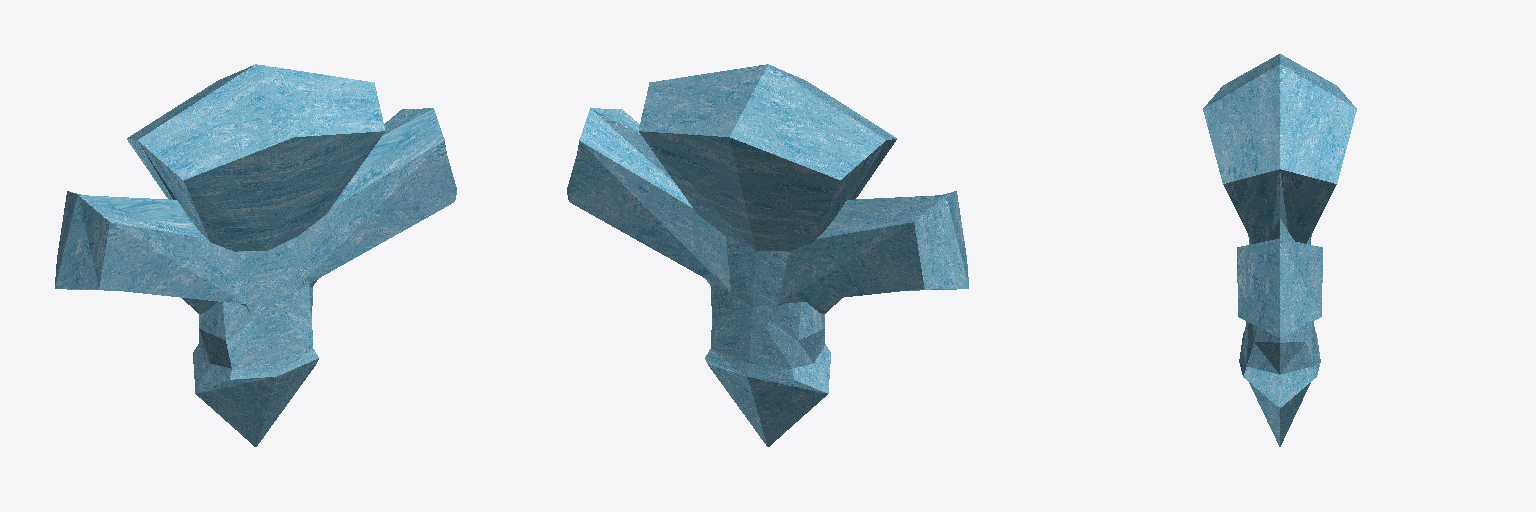
3 renders of one model, left to right at view 1: azimuth 30°, elevation 25°; view 2: azimuth 150°, elevation 25°; view 3: azimuth 270°, elevation 25°, orthographic.
Visible parts, largest first — view 1: Mesh; view 2: Mesh; view 3: Mesh.
Boxes of the visible parts, x1,y1,x2,y2 form: Mesh: [55, 64, 456, 446]; Mesh: [567, 64, 968, 446]; Mesh: [1203, 54, 1356, 446].
Size of the model in its own units: 4.41 by 4.01 by 1.46.
Materials: 1 (1 with a texture image).